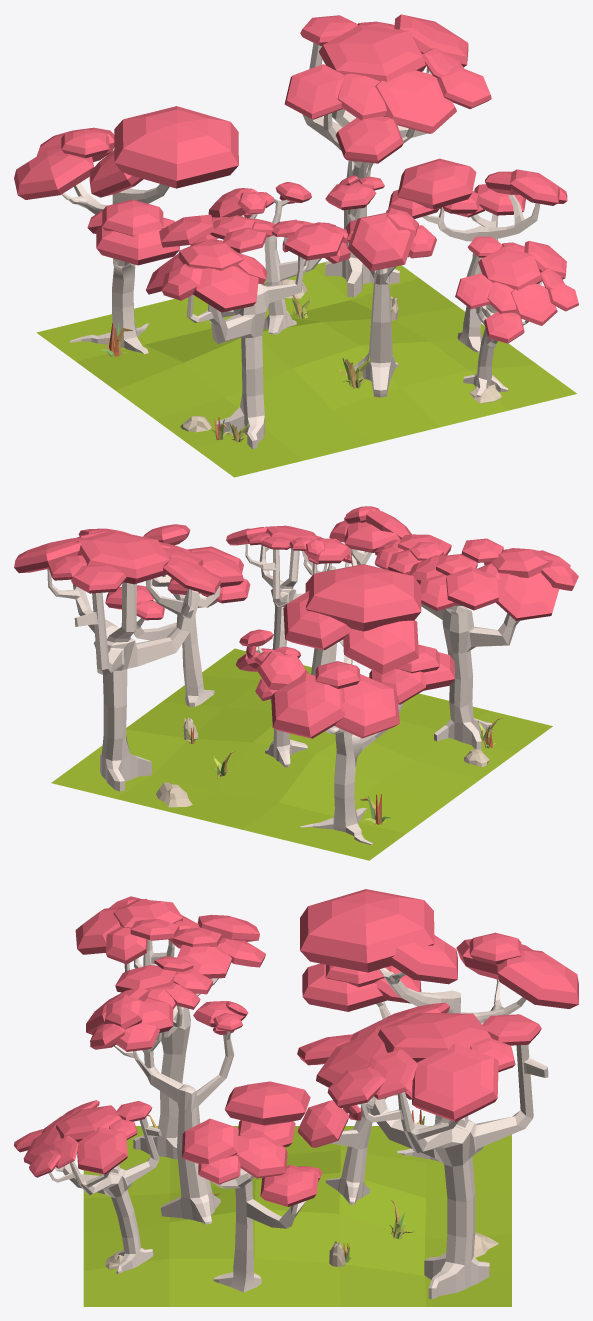
Rendered from last_chunk2.fbx.
3 views of the same model, one above another, from view 1: azimuth 30°, elevation 25°; view 2: azimuth 150°, elevation 25°; view 3: azimuth 270°, elevation 25° (orthographic). The views are drawn at different scales.
Parts seen in each view (by area): view 1: tile, boom2_kroon_MOD, bladeren_pasted__left_leafs_bladeren_pasted__tree_bladeren_g (×10), boomkroon_bladeren, boom2_kroon_MOD_2, bladeren_pasted__pSphere3_bladeren_pasted__left_leafs_blader, boomstam_takken, pCylinder2, boom2_stam_MOD, pSphere3, pCylinder1, stam (+5 smaller); view 2: tile, bladeren_pasted__left_leafs_bladeren_pasted__tree_bladeren_g (×12), boomkroon_bladeren, boom2_stam_MOD, boom2_kroon_MOD, bladeren_pasted__pSphere3_bladeren_pasted__left_leafs_blader, boomstam_takken, pCylinder2, pCylinder1, boom2_stam_MOD_2, boom2_kroon_MOD_2, pasted__pSphere6 (+5 smaller); view 3: tile, bladeren_pasted__left_leafs_bladeren_pasted__tree_bladeren_g (×12), boom2_kroon_MOD, boomkroon_bladeren, boom2_stam_MOD, bladeren_pasted__pSphere3_bladeren_pasted__left_leafs_blader (×2), boom2_kroon_MOD_2, boom2_stam_MOD_2, boomstam_takken, pCylinder1, stam, bovenkant (+9 smaller).
Part boxes in pixels (x1,y1,x2,y2): tile: (36,261,576,477); boom2_kroon_MOD: (284,14,491,163); bladeren_pasted__left_leafs_bladeren_pasted__tree_bladeren_g (×10): (14,127,559,265); boomkroon_bladeren: (146,214,349,312); boom2_kroon_MOD_2: (455,236,578,343); bladeren_pasted__pSphere3_bladeren_pasted__left_leafs_blader: (114,106,238,188); boomstam_takken: (186,237,316,449); pCylinder2: (61,182,169,353); boom2_stam_MOD: (302,42,431,297); pSphere3: (347,212,414,271); pCylinder1: (422,194,540,352); stam: (354,278,398,397); tile: (51,648,552,860); bladeren_pasted__left_leafs_bladeren_pasted__tree_bladeren_g (×12): (105,524,454,738); boomkroon_bladeren: (374,534,578,620); boom2_stam_MOD: (47,569,220,791); boom2_kroon_MOD: (14,528,243,595); bladeren_pasted__pSphere3_bladeren_pasted__left_leafs_blader: (305,564,421,631); boomstam_takken: (419,584,523,749); pCylinder2: (300,639,404,844); pCylinder1: (133,574,217,707); boom2_stam_MOD_2: (245,544,349,649); boom2_kroon_MOD_2: (226,525,357,564); pasted__pSphere6: (256,651,308,690); tile: (83,1126,511,1306); bladeren_pasted__left_leafs_bladeren_pasted__tree_bladeren_g (×12): (182,932,578,1206); boom2_kroon_MOD: (297,1002,541,1121); boomkroon_bladeren: (75,896,265,1009); boom2_stam_MOD: (360,1044,548,1298); bladeren_pasted__pSphere3_bladeren_pasted__left_leafs_blader (×2): (235,889,434,1178); boom2_kroon_MOD_2: (14,1100,152,1177); boom2_stam_MOD_2: (48,1117,161,1273); boomstam_takken: (124,939,218,1159); pCylinder1: (211,1168,305,1292); stam: (160,1106,220,1224); bovenkant: (114,1031,234,1112).
Bounding box in the file's own units: 66.05 × 34.39 × 65.97.
